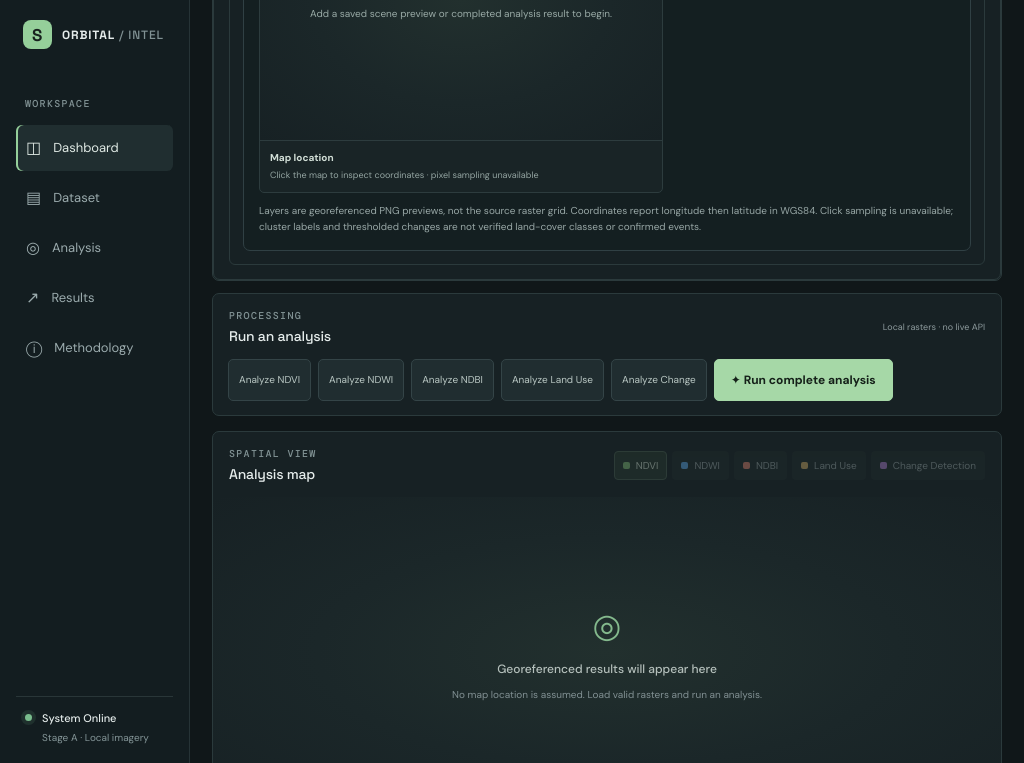
Test case: dashboard › loads persisted artifact metadata for a completed analysis
(page scrolled)
Click the button "Analyze NDVI": (270, 380) [228,358,311,400]
(page scrolled)
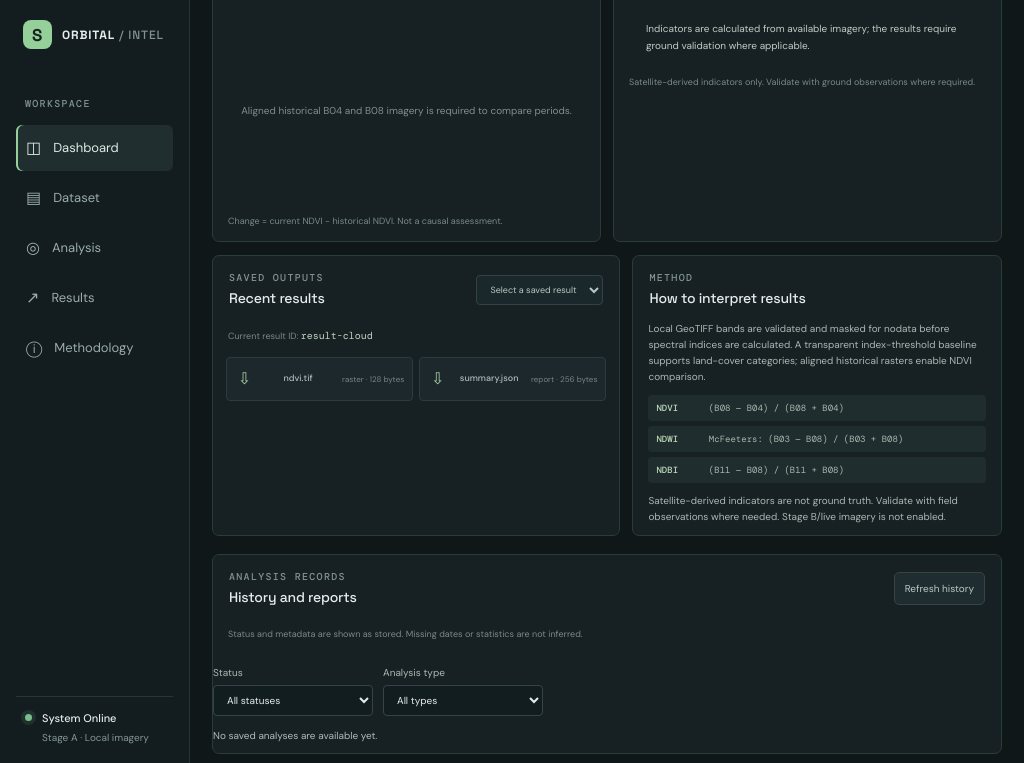
Expected: the text "ndvi.tif" is shown, [283,372,312,384]
Expected: the text "summary.json" is shown, [460,372,518,384]
